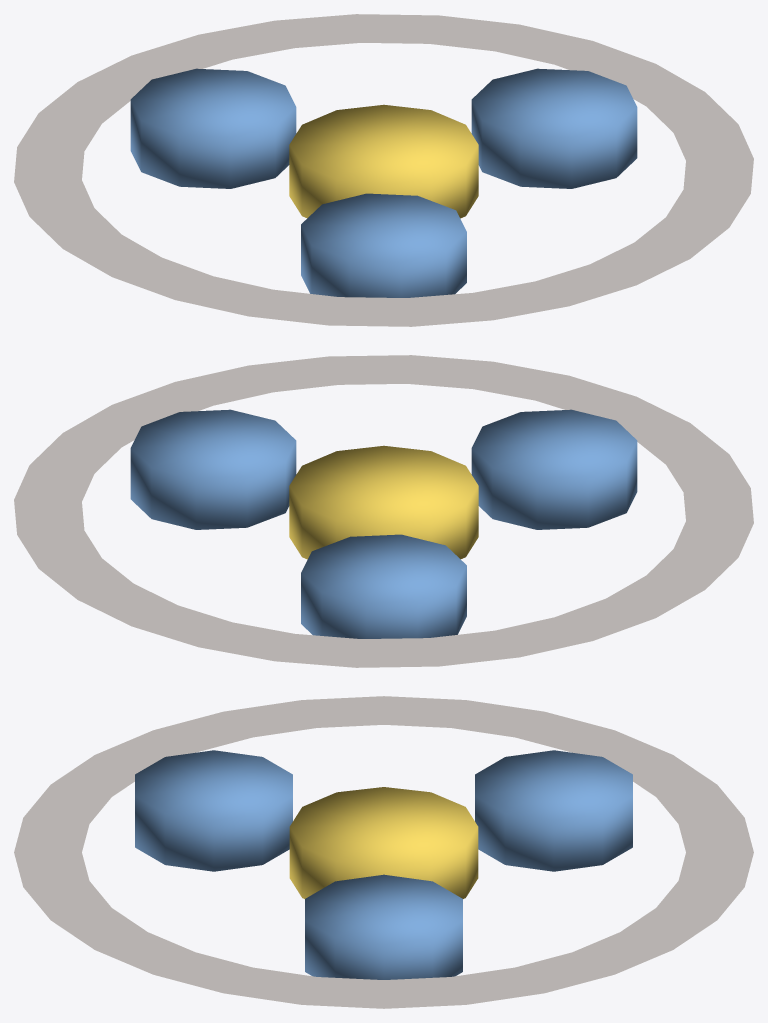
File: planetary_gear.glb
3 renders of one model, top to bottom at view 1: azimuth 30°, elevation 25°; view 2: azimuth 150°, elevation 25°; view 3: azimuth 270°, elevation 25°, orthographic.
Visible parts, largest first — view 1: ring, planet_0, planet_2, sun, planet_1; view 2: ring, planet_0, planet_1, sun, planet_2; view 3: ring, planet_1, planet_2, sun, planet_0.
Boxes of the visible parts, x1,y1,x2,y2 form: ring: [14, 14, 753, 326]; planet_0: [471, 68, 637, 188]; planet_2: [130, 68, 296, 188]; sun: [289, 104, 478, 218]; planet_1: [301, 193, 466, 297]; ring: [14, 355, 753, 667]; planet_0: [130, 409, 296, 529]; planet_1: [471, 409, 637, 529]; sun: [289, 445, 478, 559]; planet_2: [301, 534, 466, 638]; ring: [14, 696, 753, 1008]; planet_1: [135, 750, 292, 871]; planet_2: [475, 750, 632, 871]; sun: [289, 787, 478, 898]; planet_0: [305, 874, 462, 979].
Size of the model in its own units: 1.96 by 0.15 by 1.96.
